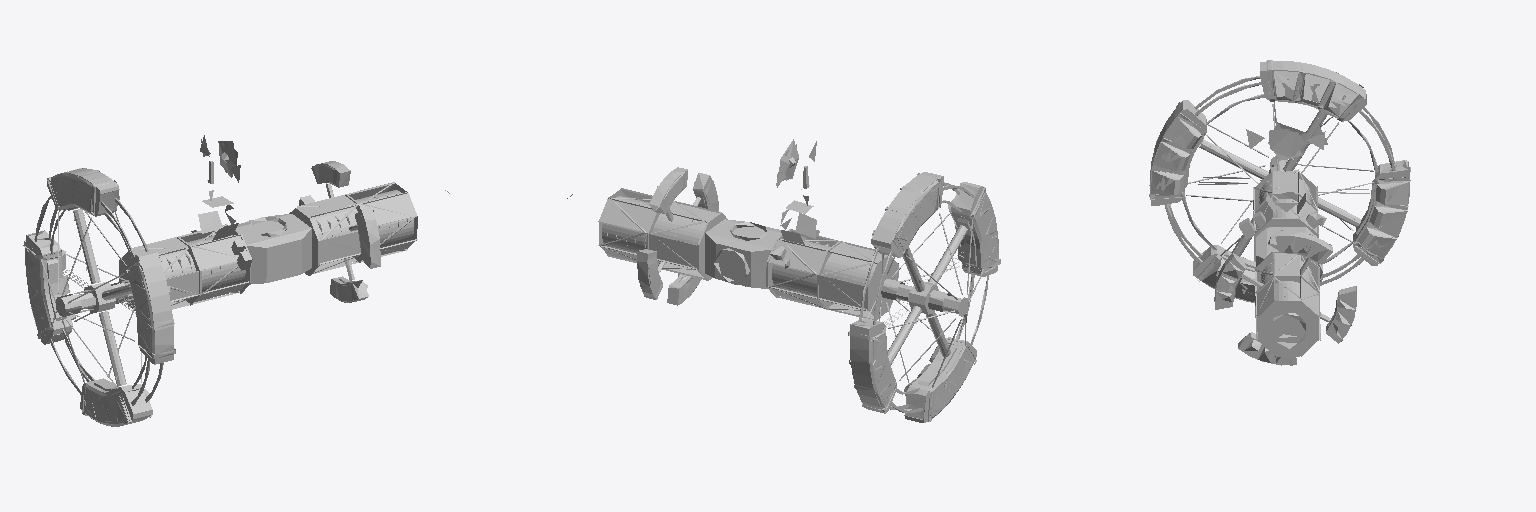
File: full_base.obj
3 renders of one model, left to right at view 1: azimuth 30°, elevation 25°; view 2: azimuth 150°, elevation 25°; view 3: azimuth 270°, elevation 25°, orthographic.
Bounding box in the file's own units: 125 × 74.49 × 72.4.